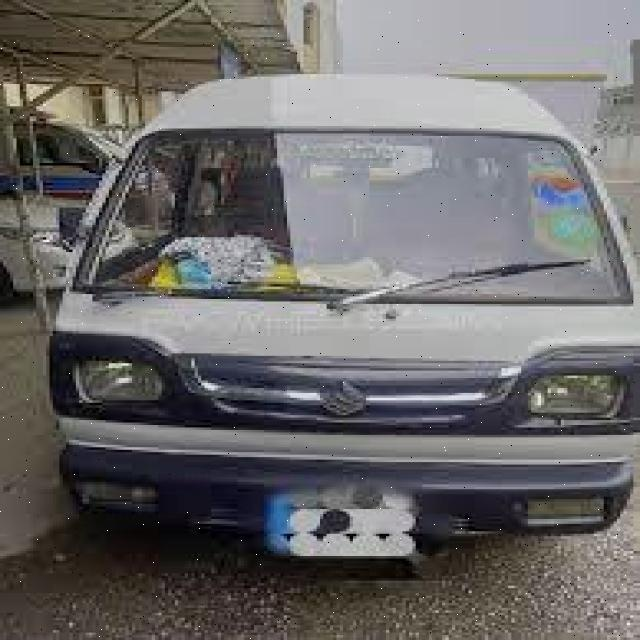Van: (39, 76, 640, 575)
